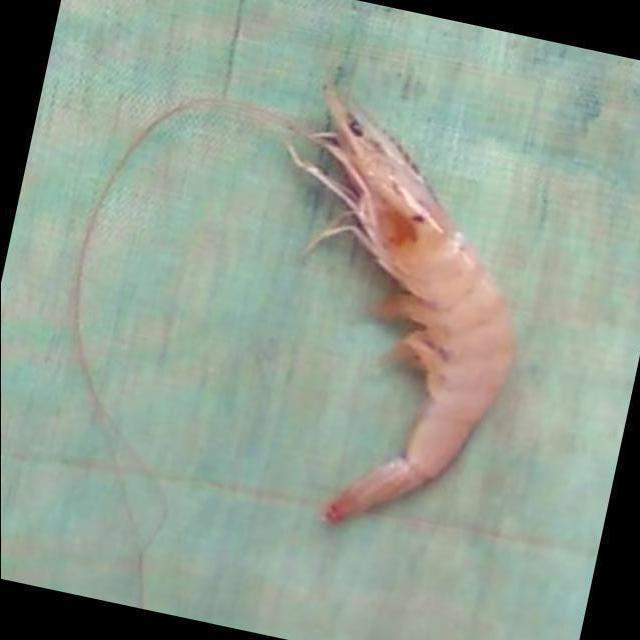shrimp: (287, 85, 514, 526)
